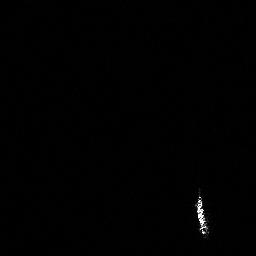ship: (191, 192, 210, 238)
